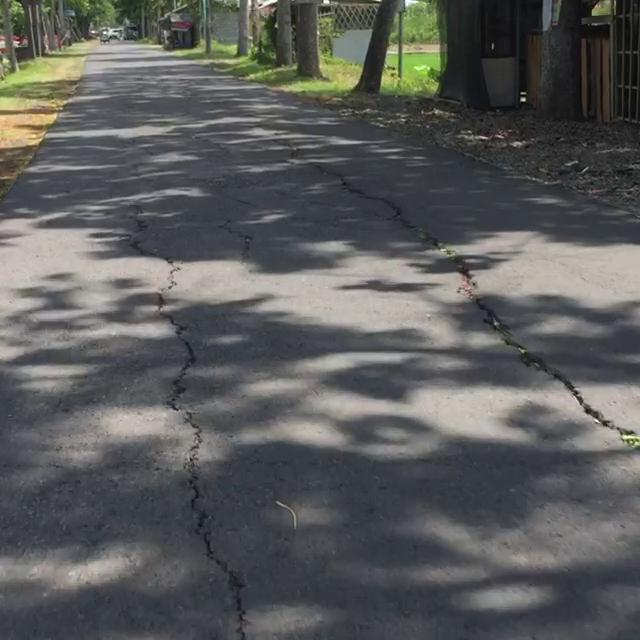retak_memanjang: (92, 175, 280, 640), (480, 301, 640, 640), (286, 150, 506, 326)
